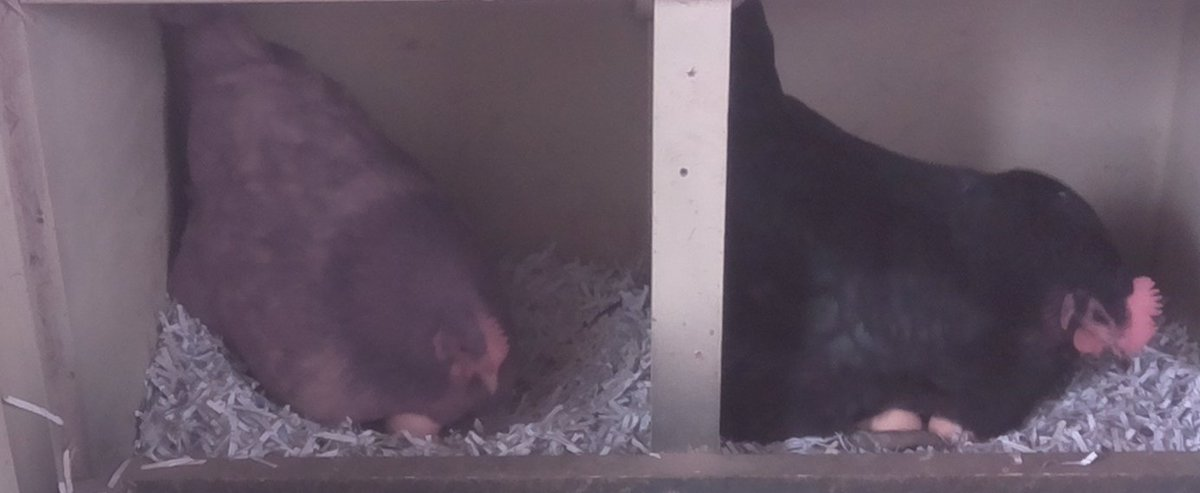egg: (380, 402, 454, 442), (856, 402, 925, 438), (927, 412, 980, 449)
hen: (733, 37, 1175, 439), (168, 16, 533, 451)
